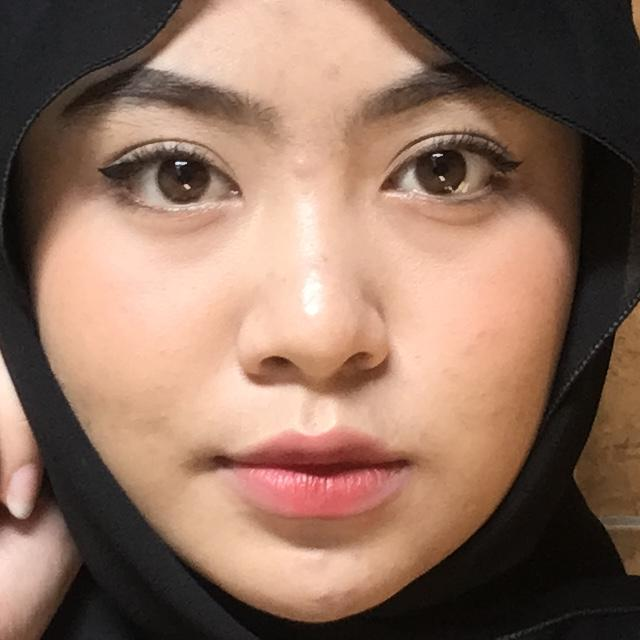ibu: (0, 226, 190, 640)
